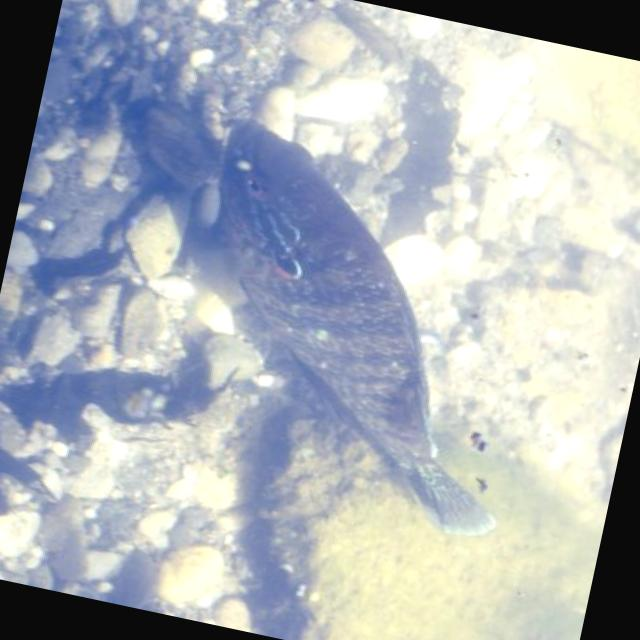Gunes Levregi: (140, 107, 576, 561)
